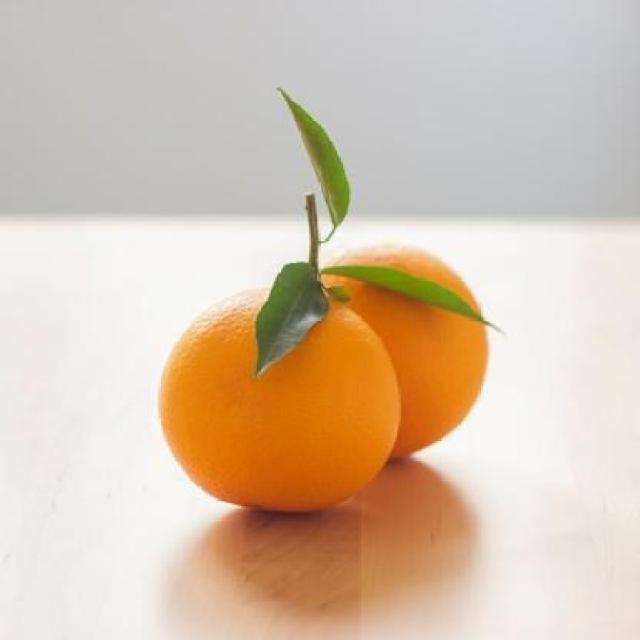Orange: (157, 283, 401, 514), (315, 240, 491, 458)
